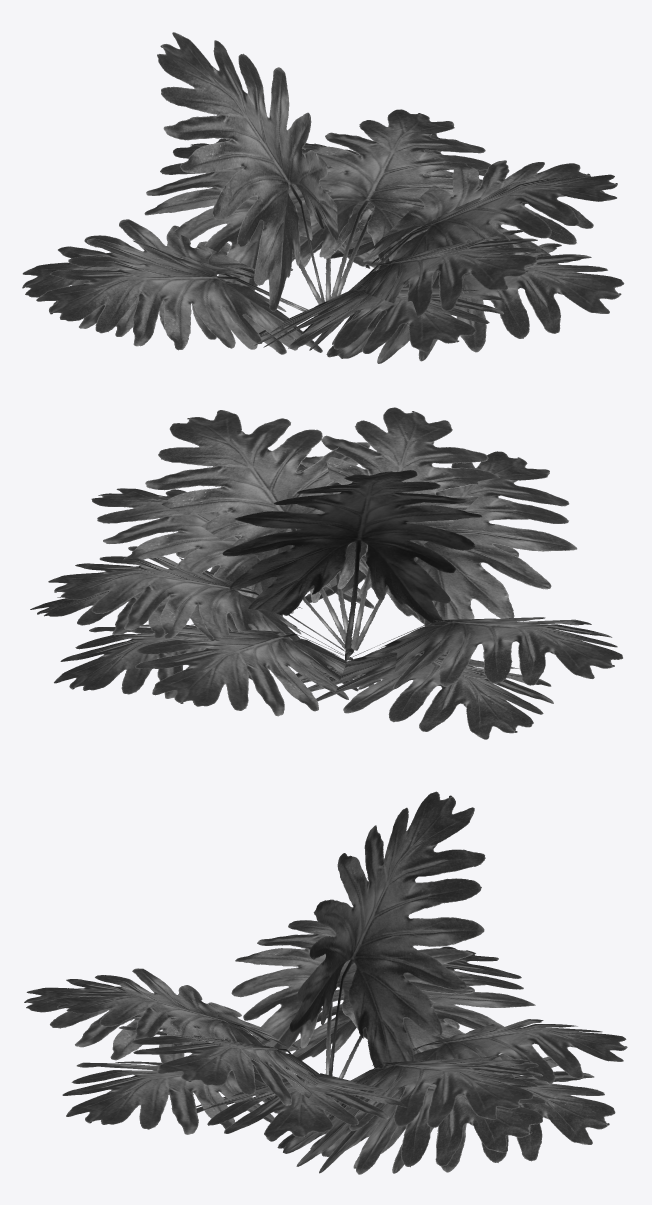
The model's file is GroundPlant03.fbx.
3 renders of one model, top to bottom at view 1: azimuth 30°, elevation 25°; view 2: azimuth 150°, elevation 25°; view 3: azimuth 270°, elevation 25°, orthographic. The views are drawn at different scales.
Visible parts, largest first — view 1: Sphere.001; view 2: Sphere.001; view 3: Sphere.001.
Part boxes in pixels (x1,y1,x2,y2): Sphere.001: [22, 32, 624, 363]; Sphere.001: [30, 407, 622, 739]; Sphere.001: [24, 791, 627, 1174].
Bounding box in the file's own units: 197 × 93.88 × 195.
